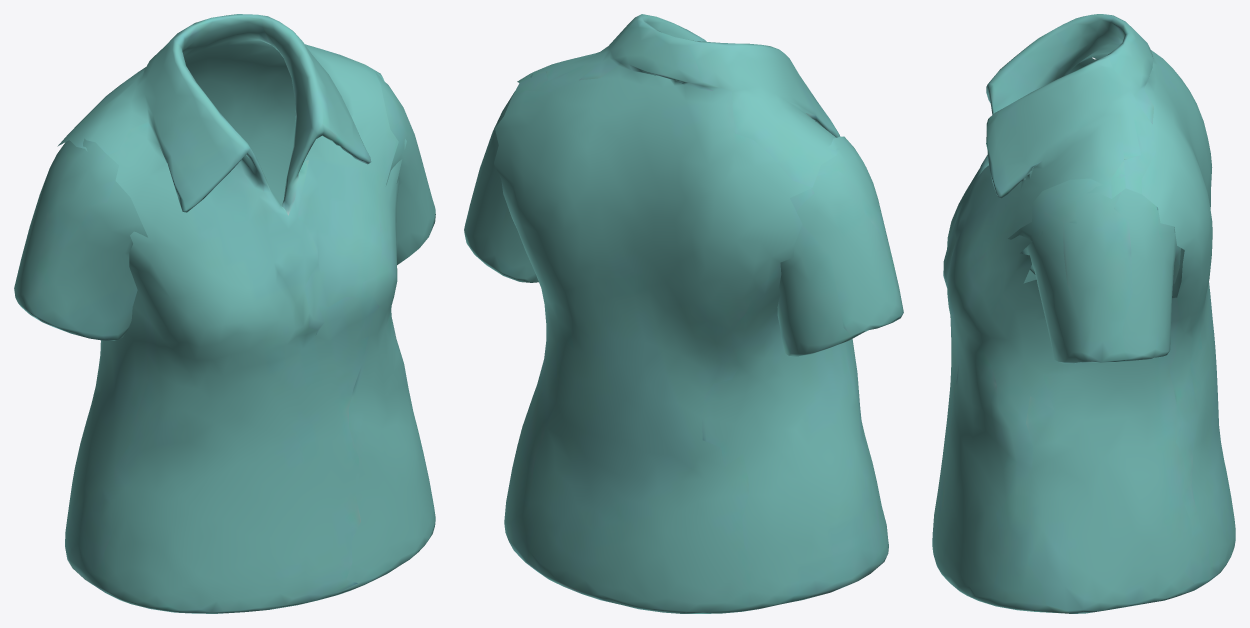
Rendered from Chibi Polo.glb.
3 renders of one model, left to right at view 1: azimuth 30°, elevation 25°; view 2: azimuth 150°, elevation 25°; view 3: azimuth 270°, elevation 25°, orthographic. The views are drawn at different scales.
Parts seen in each view (by area): view 1: polo, polo.001, polo.002; view 2: polo, polo.001, polo.002; view 3: polo, polo.002.
Boxes of the visible parts, x1,y1,x2,y2 form: polo: (57, 14, 435, 613); polo.001: (14, 138, 147, 340); polo.002: (374, 71, 435, 264); polo: (494, 14, 888, 613); polo.001: (777, 136, 903, 356); polo.002: (464, 74, 538, 282); polo: (932, 14, 1235, 613); polo.002: (1008, 174, 1180, 363).
Bounding box in the file's own units: 0.3093 × 0.3738 × 0.2014.
Materials: 1 (1 with a texture image).
